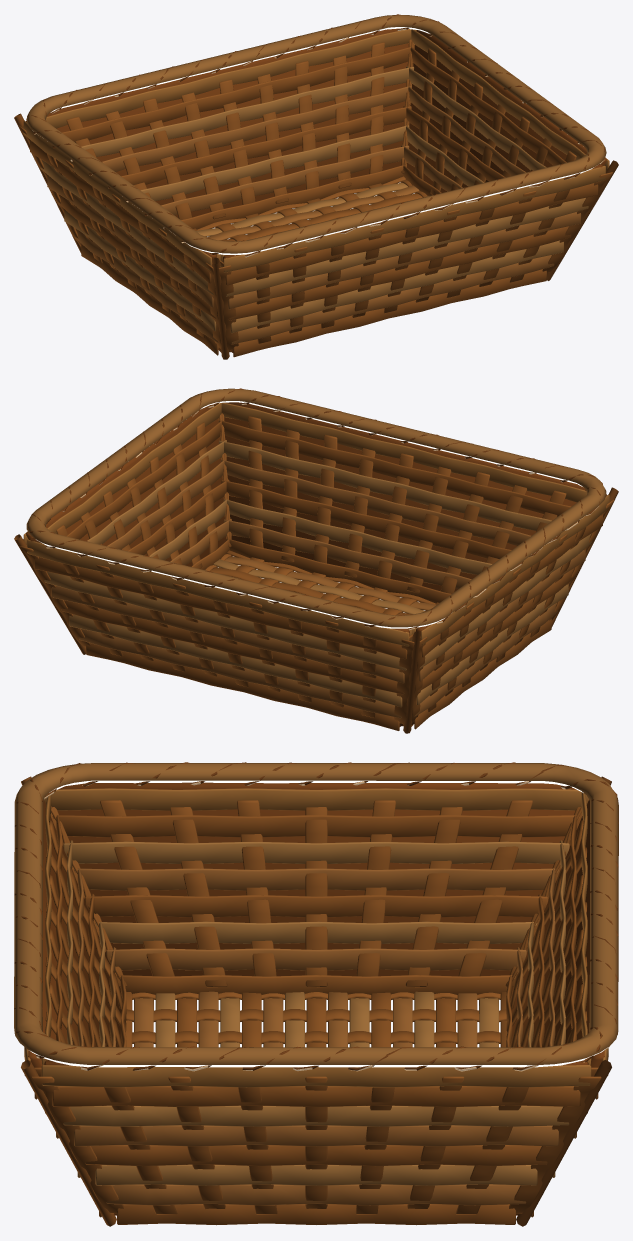
Rendered from LowWideWovenBasket_RobloxOptimized.glb.
3 renders of one model, top to bottom at view 1: azimuth 30°, elevation 25°; view 2: azimuth 150°, elevation 25°; view 3: azimuth 270°, elevation 25°, orthographic. The views are drawn at different scales.
Parts seen in each view (by area): view 1: LowWideWovenBasket_RobloxOptimized; view 2: LowWideWovenBasket_RobloxOptimized; view 3: LowWideWovenBasket_RobloxOptimized.
Boxes of the visible parts, x1,y1,x2,y2 form: LowWideWovenBasket_RobloxOptimized: (14, 14, 618, 359); LowWideWovenBasket_RobloxOptimized: (14, 388, 618, 733); LowWideWovenBasket_RobloxOptimized: (14, 762, 618, 1226).
Bounding box in the file's own units: 2.61 × 0.838 × 2.25.
